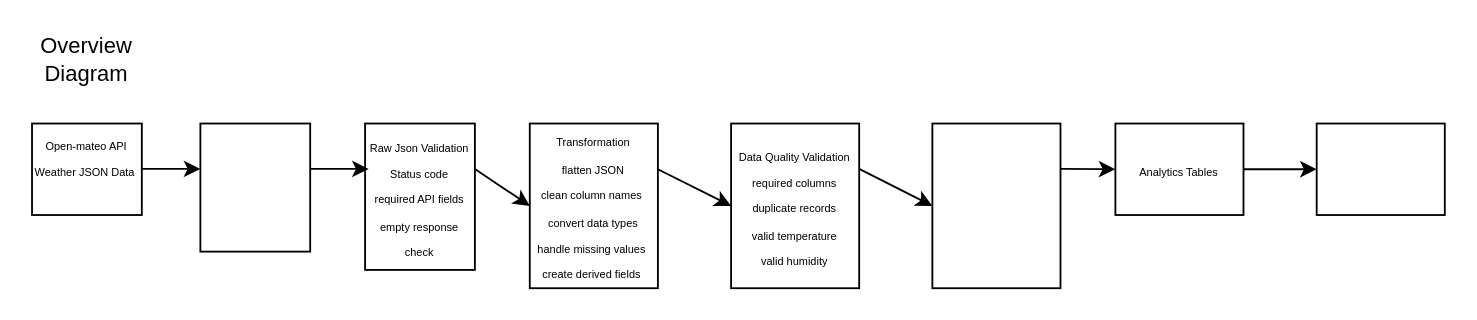
Some shapes in this 1477 by 320 pixel diagram are drawn without their labels. Each missing label, with the centre of its shape:
Airflow Scheduler: point (1380, 168)
Extract Module requests.get() API response check: point (254, 187)
SQL Star Schema dim_location dim_location dim: point (995, 205)
